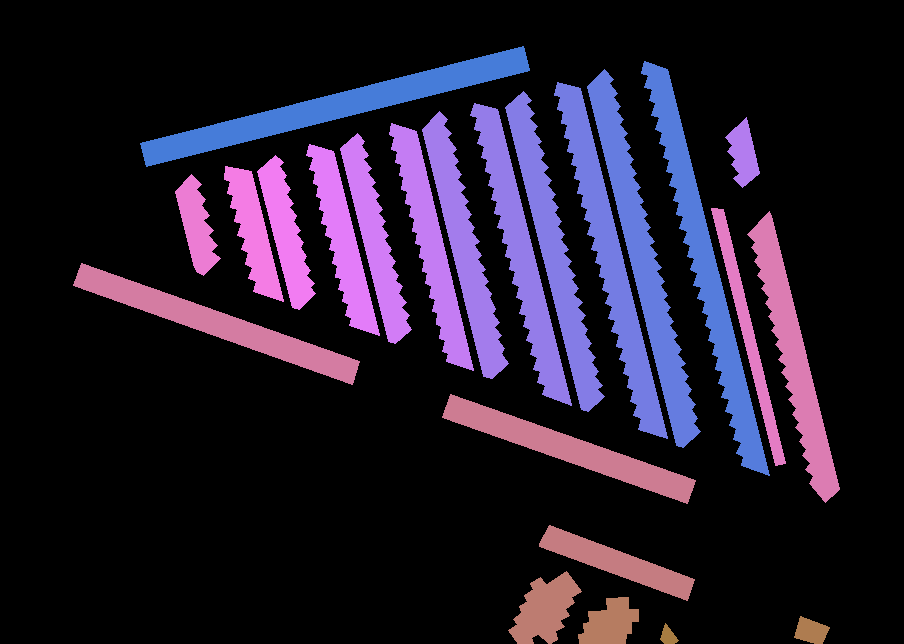parkingspot: (641, 61, 769, 475), (140, 46, 529, 166), (587, 69, 700, 447), (554, 82, 667, 438), (73, 263, 359, 384), (505, 91, 604, 411), (470, 103, 571, 405), (442, 394, 695, 503), (747, 211, 839, 502), (422, 111, 508, 378), (389, 123, 473, 370), (711, 208, 785, 465), (340, 133, 411, 343), (306, 144, 379, 335), (539, 525, 694, 600), (257, 155, 315, 309), (224, 166, 283, 301), (175, 174, 220, 275), (533, 571, 581, 644), (508, 577, 555, 644), (725, 117, 759, 187), (600, 597, 638, 644), (578, 610, 613, 644), (794, 616, 829, 644), (660, 623, 678, 644)
